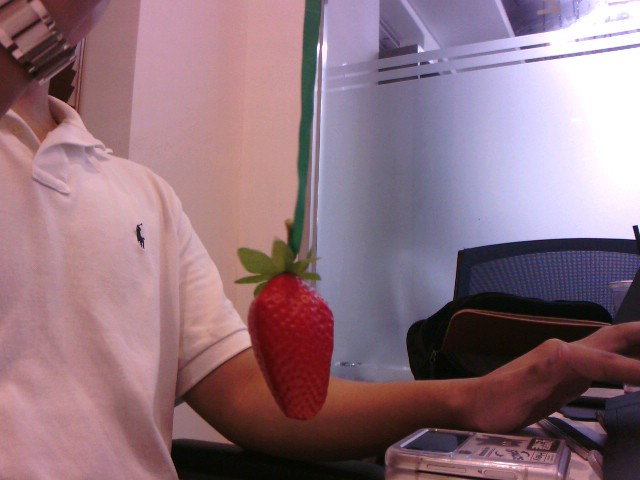strawberry: (241, 264, 337, 420), (492, 0, 610, 36)
